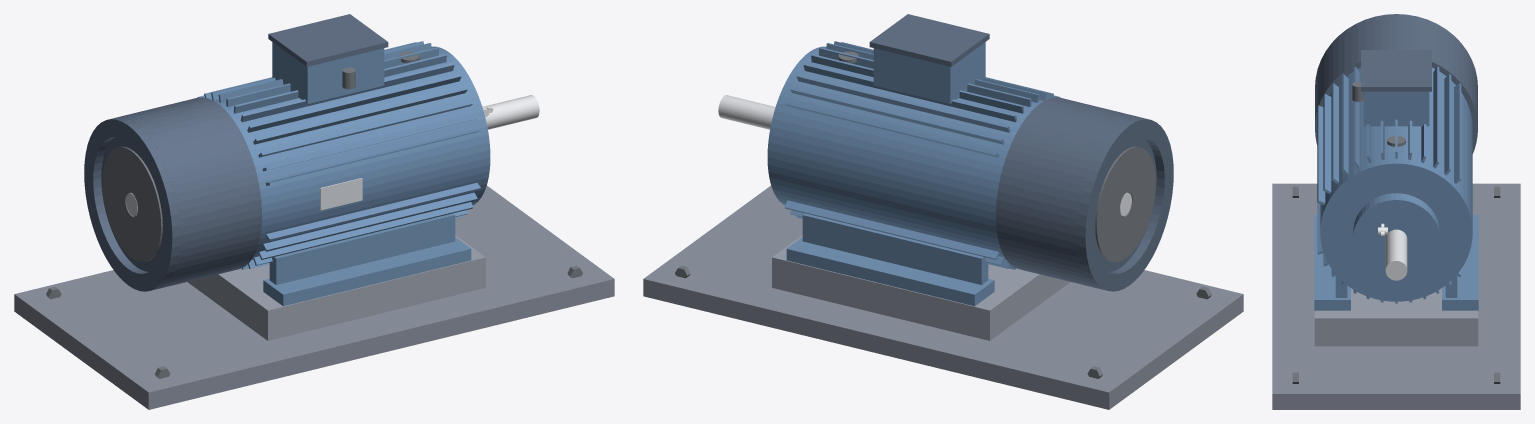
The model's file is motor.glb.
3 renders of one model, left to right at view 1: azimuth 30°, elevation 25°; view 2: azimuth 150°, elevation 25°; view 3: azimuth 270°, elevation 25°, orthographic. The views are drawn at different scales.
Visible parts, largest first — view 1: PART_001, CASING_MOTORBODY_006, CASING_FINS_009, CASING_COWL_010, PART_022, CASING_COWL_011, PART_021, PART_012, PART_020, CASING_TERMBOX_013, PART_014, PART_023 (+2 smaller); view 2: PART_001, CASING_MOTORBODY_006, CASING_COWL_010, CASING_FINS_009, PART_022, CASING_COWL_011, PART_019, PART_012, PART_018, CASING_TERMBOX_013, PART_014, CASING_ENDBELL_007 (+1 smaller); view 3: PART_001, CASING_ENDBELL_007, PART_022, CASING_FINS_009, CASING_COWL_010, CASING_MOTORBODY_006, CASING_ENDBELL_008, PART_014, CASING_TERMBOX_013, PART_018, PART_020, PART_023 (+1 smaller).
Boxes of the visible parts, x1=… form: PART_001: x1=14, y1=185, x2=614, y2=409; CASING_MOTORBODY_006: x1=214, y1=47, x2=488, y2=259; CASING_FINS_009: x1=198, y1=41, x2=480, y2=269; CASING_COWL_010: x1=101, y1=97, x2=261, y2=288; PART_022: x1=188, y1=235, x2=485, y2=340; CASING_COWL_011: x1=84, y1=117, x2=182, y2=291; PART_021: x1=269, y1=213, x2=455, y2=284; PART_012: x1=102, y1=146, x2=162, y2=262; PART_020: x1=263, y1=237, x2=471, y2=306; CASING_TERMBOX_013: x1=272, y1=42, x2=384, y2=103; PART_014: x1=268, y1=14, x2=388, y2=66; PART_023: x1=126, y1=95, x2=539, y2=215; PART_001: x1=643, y1=185, x2=1243, y2=409; CASING_MOTORBODY_006: x1=769, y1=47, x2=1043, y2=259; CASING_COWL_010: x1=996, y1=97, x2=1156, y2=288; CASING_FINS_009: x1=784, y1=41, x2=1059, y2=269; PART_022: x1=772, y1=235, x2=1069, y2=340; CASING_COWL_011: x1=1075, y1=117, x2=1173, y2=291; PART_019: x1=802, y1=213, x2=988, y2=284; PART_012: x1=1095, y1=146, x2=1155, y2=262; PART_018: x1=786, y1=237, x2=994, y2=306; CASING_TERMBOX_013: x1=873, y1=42, x2=985, y2=103; PART_014: x1=869, y1=14, x2=989, y2=66; CASING_ENDBELL_007: x1=767, y1=46, x2=826, y2=205; PART_001: x1=1272, y1=183, x2=1520, y2=409; CASING_ENDBELL_007: x1=1320, y1=156, x2=1472, y2=301; PART_022: x1=1314, y1=288, x2=1478, y2=346; CASING_FINS_009: x1=1317, y1=66, x2=1461, y2=303; CASING_COWL_010: x1=1315, y1=17, x2=1477, y2=153; CASING_MOTORBODY_006: x1=1320, y1=67, x2=1472, y2=226; CASING_ENDBELL_008: x1=1353, y1=193, x2=1439, y2=278; PART_014: x1=1361, y1=50, x2=1431, y2=91; CASING_TERMBOX_013: x1=1363, y1=91, x2=1429, y2=126; PART_018: x1=1442, y1=215, x2=1478, y2=310; PART_020: x1=1314, y1=215, x2=1350, y2=310; PART_023: x1=1385, y1=230, x2=1407, y2=280.
Size of the model in its own units: 2.1 by 1.13 by 1.05.
